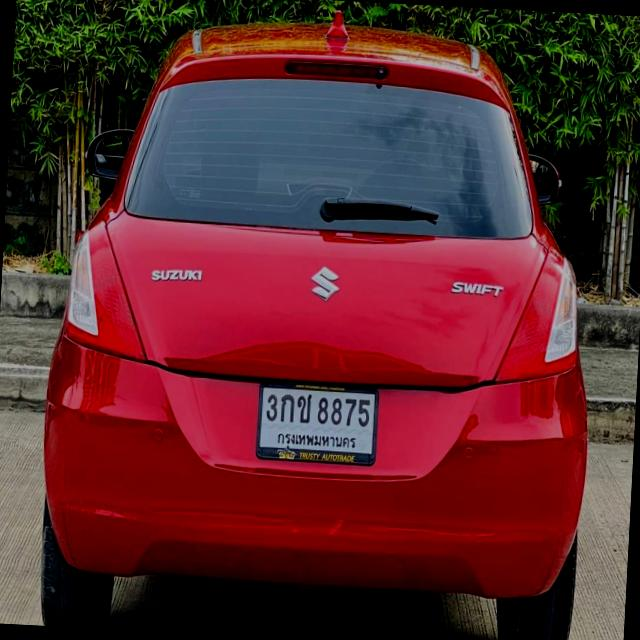license_plate: (256, 376, 382, 468)
